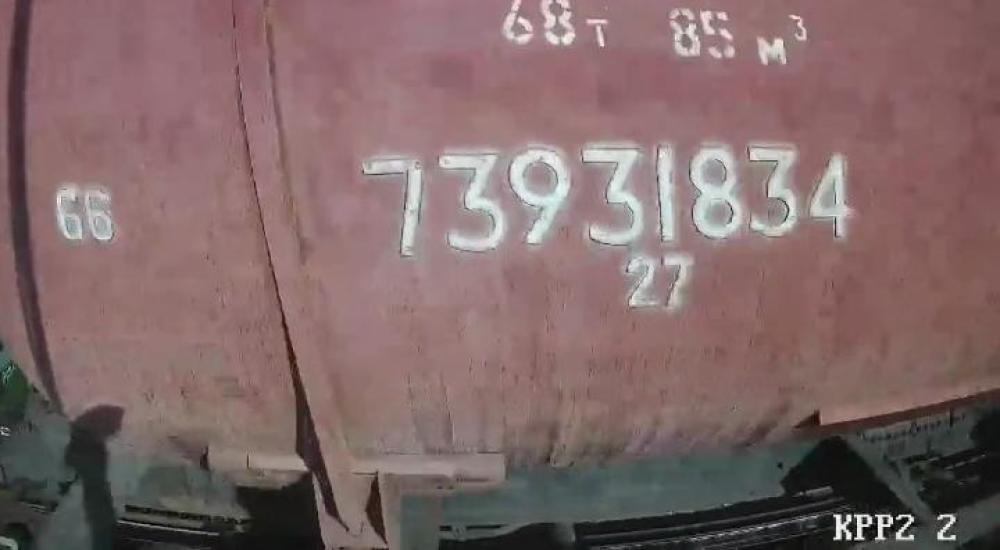Wagon-number: (357, 140, 860, 260)
